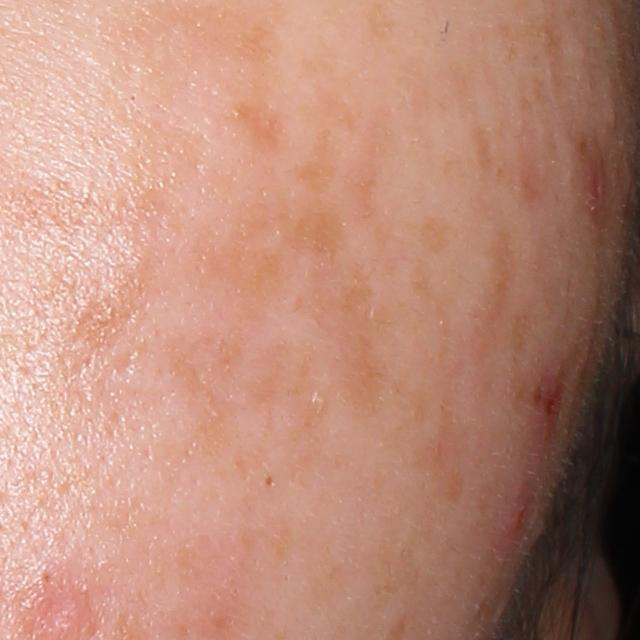melasma: (186, 198, 355, 298), (166, 329, 297, 453), (302, 259, 399, 411), (67, 236, 189, 346), (344, 102, 405, 225), (467, 228, 520, 369), (374, 215, 437, 307), (226, 97, 295, 162), (294, 121, 339, 199), (420, 212, 464, 251), (366, 0, 400, 41), (470, 124, 495, 173)
papule: (498, 490, 531, 548)
